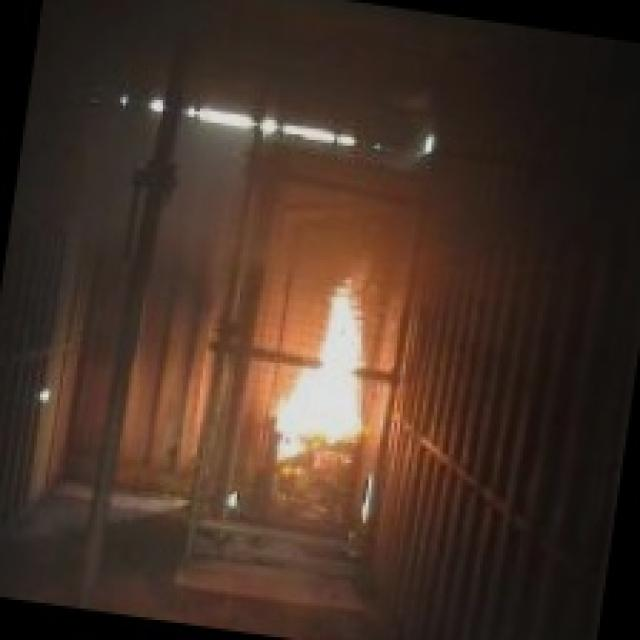fire: (268, 267, 403, 456)
